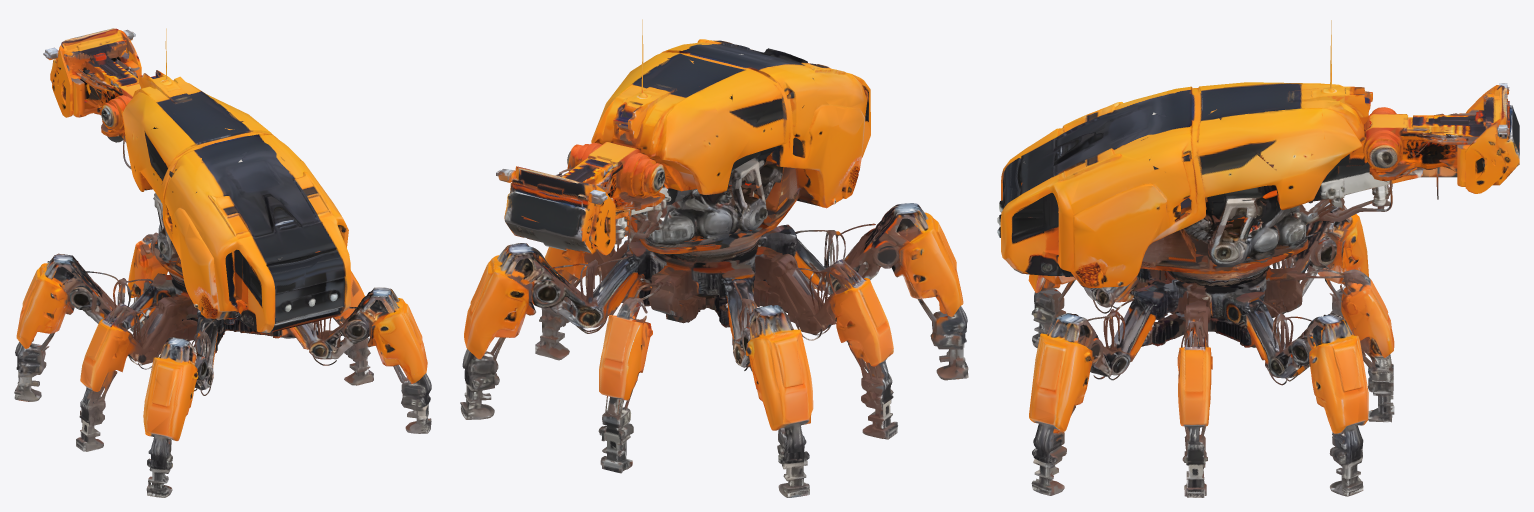
Rendered from garras.glb.
3 renders of one model, left to right at view 1: azimuth 30°, elevation 25°; view 2: azimuth 150°, elevation 25°; view 3: azimuth 270°, elevation 25°, orthographic. The views are drawn at different scales.
Visible parts, largest first — view 1: model; view 2: model; view 3: model.
Boxes of the visible parts, box(x1,y1,x2,y2) form: model: box(14, 28, 431, 497); model: box(460, 19, 968, 497); model: box(997, 20, 1519, 497).
Bounding box in the file's own units: 1.29 × 1.5 × 1.76.
1 material, 1 textured.
